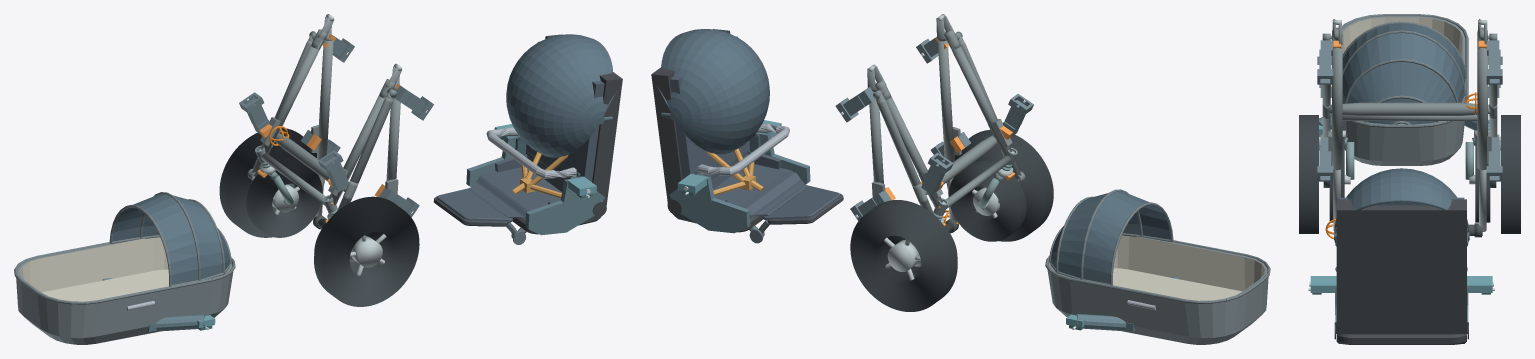
The model's file is D05_w550_state3_wheel_L.glb.
3 views of the same model, side by side, from view 1: azimuth 30°, elevation 25°; view 2: azimuth 150°, elevation 25°; view 3: azimuth 270°, elevation 25° (orthographic). The views are drawn at different scales.
Visible parts, largest first — view 1: D05_Upper, D05_Lower, RL_tire.004, FR_tire.004, D05_Lower_Mount_L, RR_tire.004, main_upper_1.005, main_lower_1.005, V46_rear_leg_-1.005, D05_Upper_Mount_H, main_lower_-1.005, main_upper_-1.005 (+7 smaller); view 2: D05_Upper, D05_Lower, RR_tire.004, FL_tire.004, D05_Lower_Mount_L, RL_tire.004, main_upper_-1.005, main_lower_-1.005, V46_rear_leg_1.005, D05_Upper_Mount_H, main_lower_1.005, main_upper_1.005 (+7 smaller); view 3: D05_Lower, D05_Upper, RL_tire.004, RR_tire.004, V46_rearbar.005, main_upper_1.005, main_upper_-1.005, D05_Lower_Mount_L, front_fixed_round_tube.004, Universal_Cabin_Receiver_M_1, Universal_Cabin_Receiver_M_-1, Universal_Cabin_Receiver_H_1 (+10 smaller).
Part boxes in pixels (x1,y1,x2,y2): D05_Upper: (14,192,235,344); D05_Lower: (433,34,622,244); RL_tire.004: (314,196,419,306); FR_tire.004: (246,158,322,237); D05_Lower_Mount_L: (466,124,604,235); RR_tire.004: (219,128,324,237); main_upper_1.005: (317,40,333,159); main_lower_1.005: (260,40,322,154); V46_rear_leg_-1.005: (337,97,393,211); D05_Upper_Mount_H: (102,277,215,331); main_lower_-1.005: (328,95,386,205); main_upper_-1.005: (386,90,400,180); D05_Upper: (1045,189,1270,344); D05_Lower: (651,29,843,243); RR_tire.004: (850,200,957,311); FL_tire.004: (949,160,1026,241); D05_Lower_Mount_L: (669,120,810,233); RL_tire.004: (946,130,1053,241); main_upper_-1.005: (938,40,954,162); main_lower_-1.005: (949,40,1011,156); V46_rear_leg_1.005: (876,98,934,214); D05_Upper_Mount_H: (1066,276,1180,331); main_lower_1.005: (883,95,942,208); main_upper_1.005: (869,92,883,183); D05_Lower: (1334,168,1469,344); D05_Upper: (1342,14,1468,165); RL_tire.004: (1299,115,1318,233); RR_tire.004: (1501,115,1520,233); V46_rearbar.005: (1329,102,1490,115); main_upper_1.005: (1477,44,1487,170); main_upper_-1.005: (1332,44,1342,170); D05_Lower_Mount_L: (1308,276,1494,333); front_fixed_round_tube.004: (1342,115,1477,120); Universal_Cabin_Receiver_M_1: (1486,40,1502,84); Universal_Cabin_Receiver_M_-1: (1317,40,1333,84); Universal_Cabin_Receiver_H_1: (1486,137,1502,181).
Bounding box in the file's own units: 2.14 × 0.7725 × 0.671.
